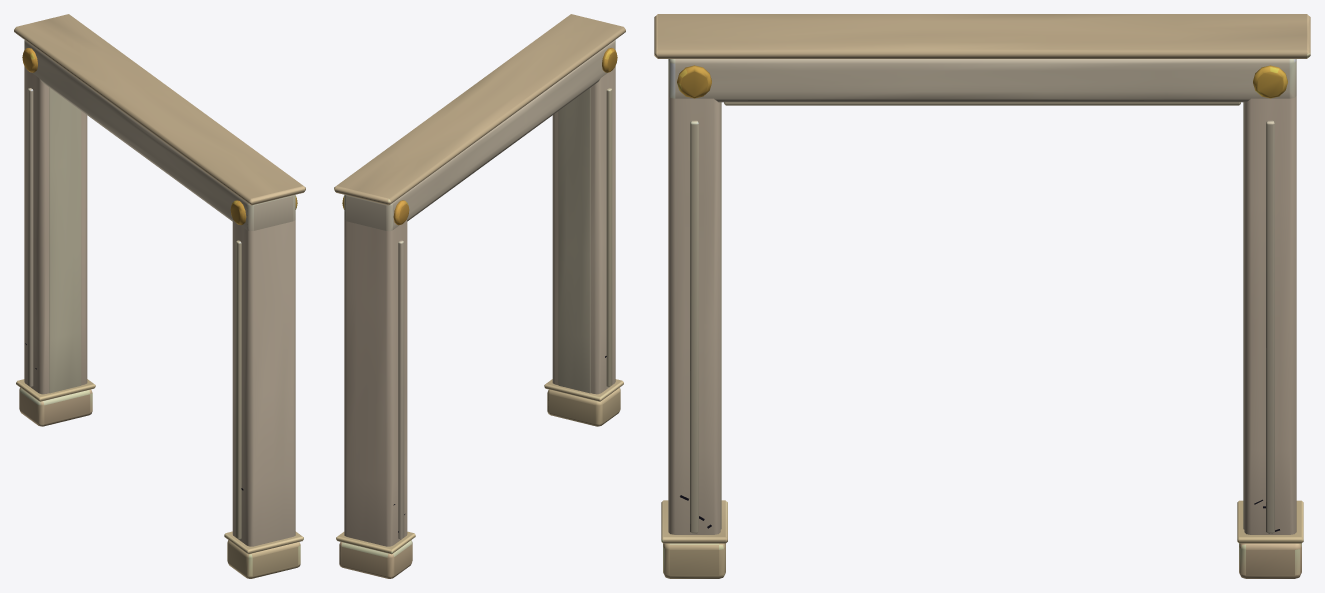
File: SM_Door_Office_Frame.fbx
The picture shows the model from 3 angles, left to right: view 1: azimuth 30°, elevation 25°; view 2: azimuth 150°, elevation 25°; view 3: azimuth 270°, elevation 25°; orthographic projection. The views are drawn at different scales.
Parts seen in each view (by area): view 1: SM_Door_Office_Frame; view 2: SM_Door_Office_Frame; view 3: SM_Door_Office_Frame.
Boxes of the visible parts, x1,y1,x2,y2 form: SM_Door_Office_Frame: (14,14,305,578); SM_Door_Office_Frame: (334,14,625,578); SM_Door_Office_Frame: (654,14,1310,578).
Size of the model in its own units: 52.2 by 336 by 376.
